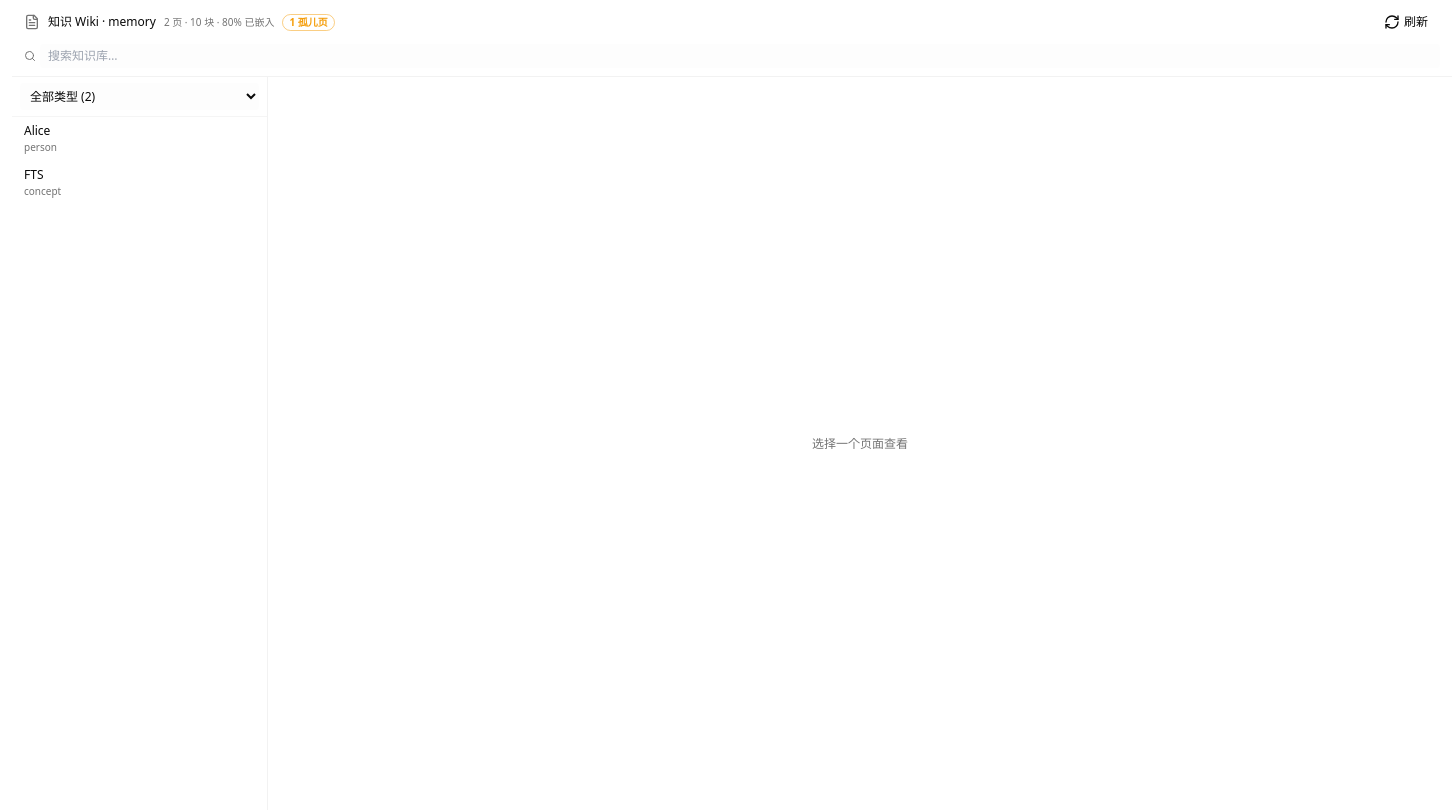
Test: WikiView › search switches list to result mode
Expected: the text "Alice" is shown, [24,122,50,139]
Type "full text" into the field with test id "wiki-search-input".
click(740, 56); type("full text")  # box [40,44,1440,68]
Then press Enter
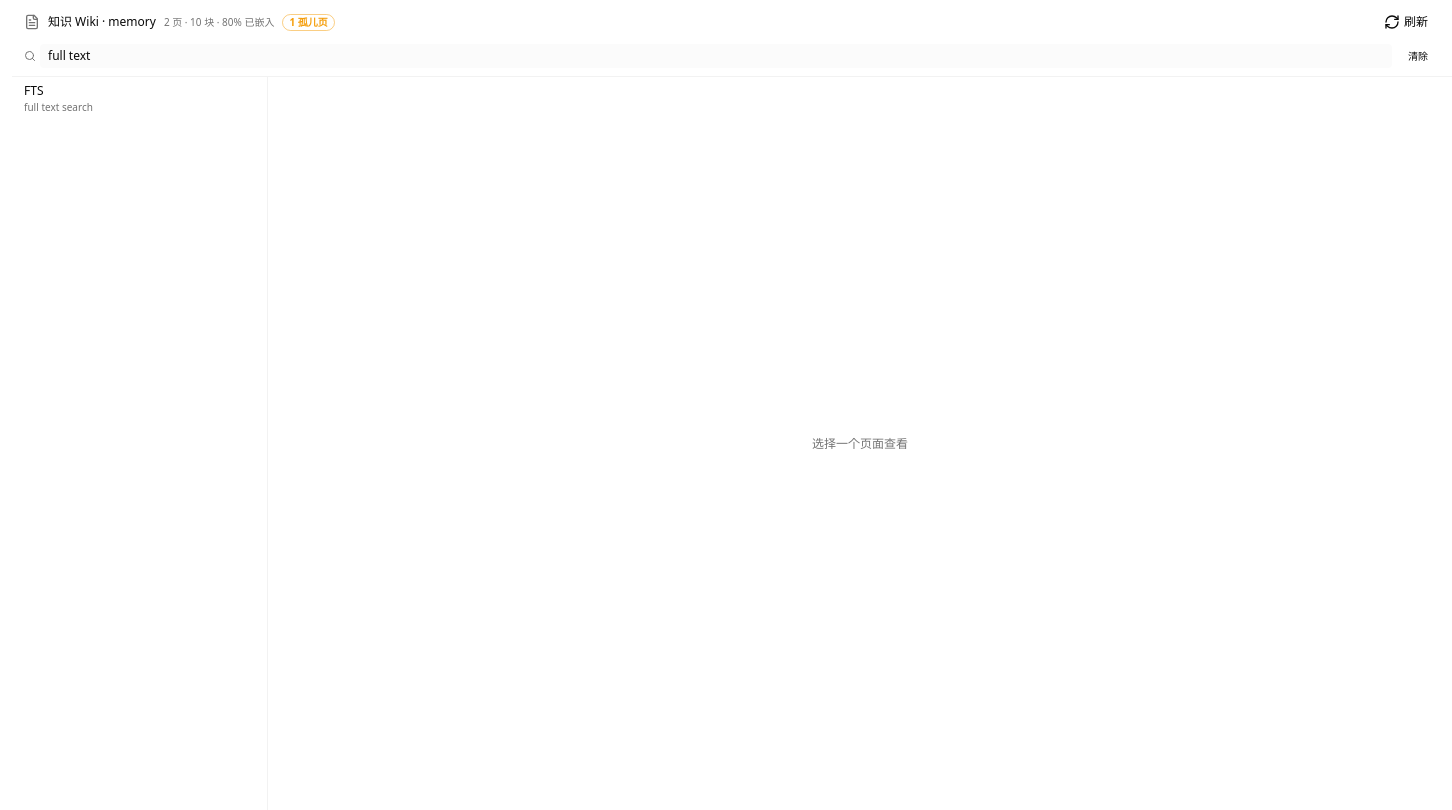
Now the text "full text search" is shown, box [24,100,93,114]
